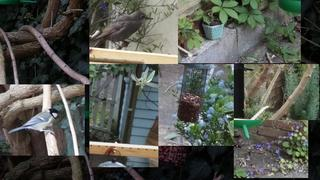great tit: (7, 108, 61, 135)
starling: (93, 10, 154, 50)
